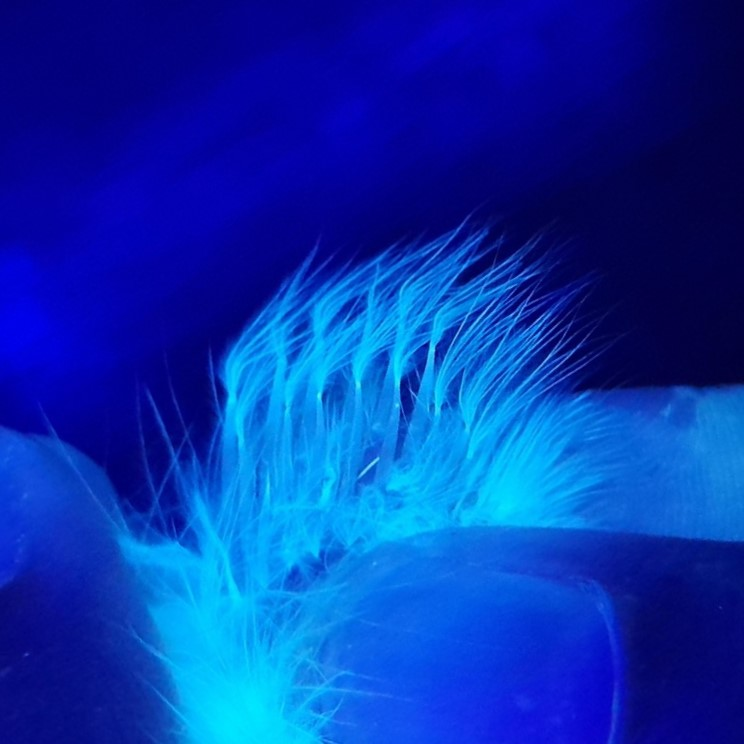female: (218, 300, 496, 607)
